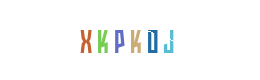0: (99, 0, 179, 80)
J: (116, 0, 196, 80)
K: (62, 0, 142, 80), (90, 0, 170, 80)
P: (85, 0, 165, 80)
X: (46, 0, 126, 80)
